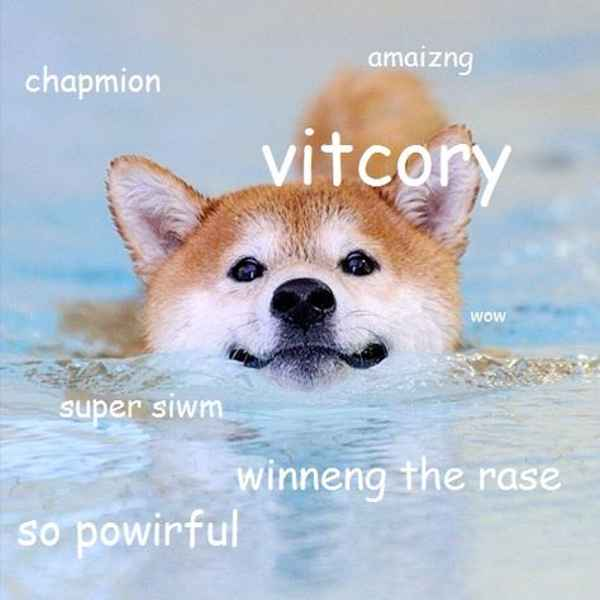doge: (101, 141, 494, 421)
